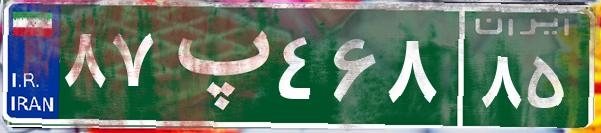4: (273, 28, 330, 110)
5: (525, 38, 570, 115)
6: (330, 28, 385, 110)
7: (110, 28, 158, 105)
8: (385, 28, 445, 110), (57, 26, 110, 107), (475, 38, 525, 113)
پ: (158, 15, 273, 115)
